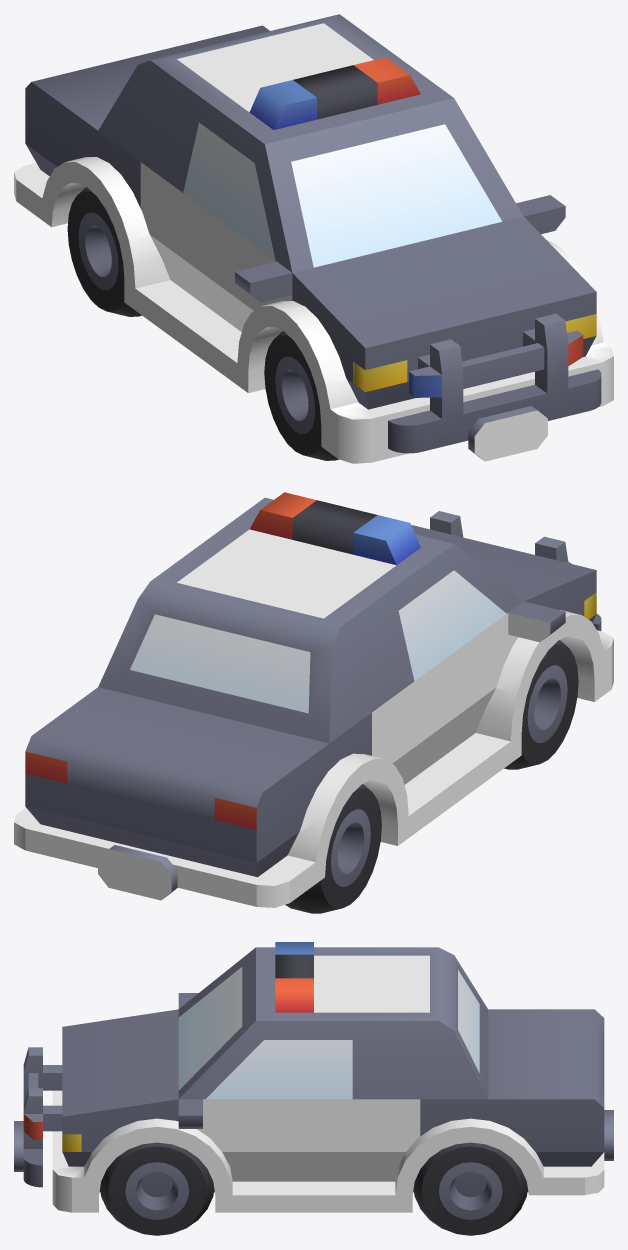
The model's file is police.glb.
The picture shows the model from 3 angles, top to bottom: view 1: azimuth 30°, elevation 25°; view 2: azimuth 150°, elevation 25°; view 3: azimuth 270°, elevation 25°; orthographic projection. The views are drawn at different scales.
Parts seen in each view (by area): view 1: body, grill, wheel-front-right, wheel-back-right; view 2: body, wheel-back-right, wheel-front-right, grill; view 3: body, wheel-back-left, wheel-front-left, grill.
Part boxes in pixels (x1=…): body: x1=14, y1=14, x2=613, y2=463; grill: x1=388, y1=313, x2=601, y2=461; wheel-front-right: x1=264, y1=331, x2=339, y2=460; wheel-back-right: x1=67, y1=187, x2=141, y2=316; body: x1=14, y1=492, x2=613, y2=907; wheel-back-right: x1=285, y1=784, x2=381, y2=913; wheel-front-right: x1=504, y1=640, x2=578, y2=769; grill: x1=430, y1=511, x2=601, y2=630; body: x1=52, y1=942, x2=613, y2=1212; wheel-back-left: x1=413, y1=1142, x2=527, y2=1235; wheel-front-left: x1=100, y1=1142, x2=214, y2=1235; grill: x1=14, y1=1047, x2=62, y2=1187.
Bounding box in the file's own units: 1.5 × 1.3 × 3.1.
2 materials, 1 textured.
